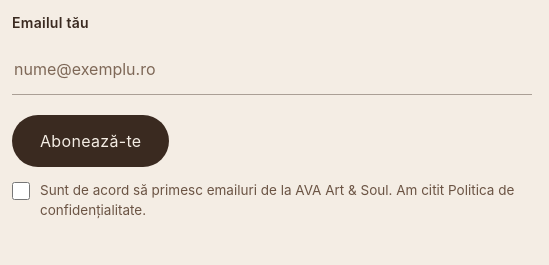
Test: <NewsletterForm> (launch checklist 11, 12, 13) › keeps what you typed and lets you try again after a network error
Type "ana@exemplu.ro" into the field labelled "Emailul tău" at (272, 69), box [12,43,532,95]
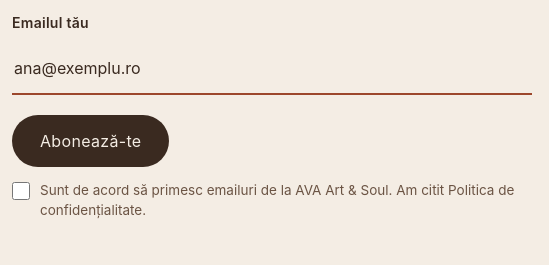
Click the checkbox at (21, 191), box [12,182,30,200]
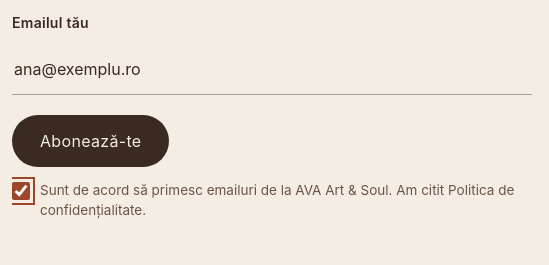
Click the button at (91, 141), box [12,115,170,167]
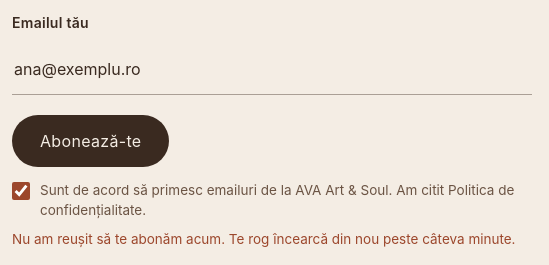
expect the message reads "Nu am reușit să te abonăm acum. Te rog încearcă din nou peste câteva minute.": met, box [12,231,516,247]
